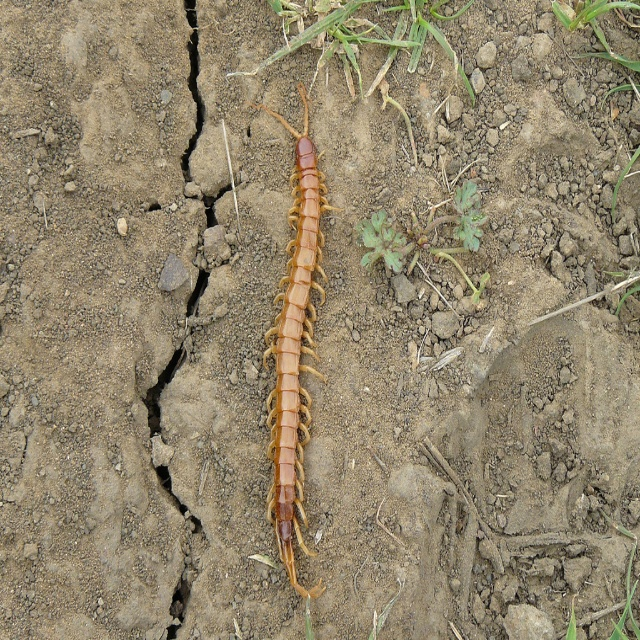Centipede: (243, 79, 342, 598)
